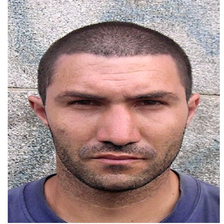no_mask: (43, 56, 186, 187)
